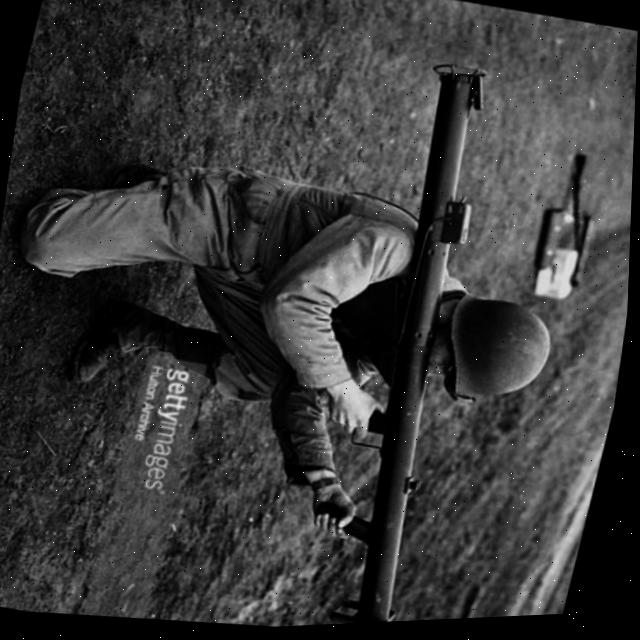rocket: (305, 54, 537, 629)
